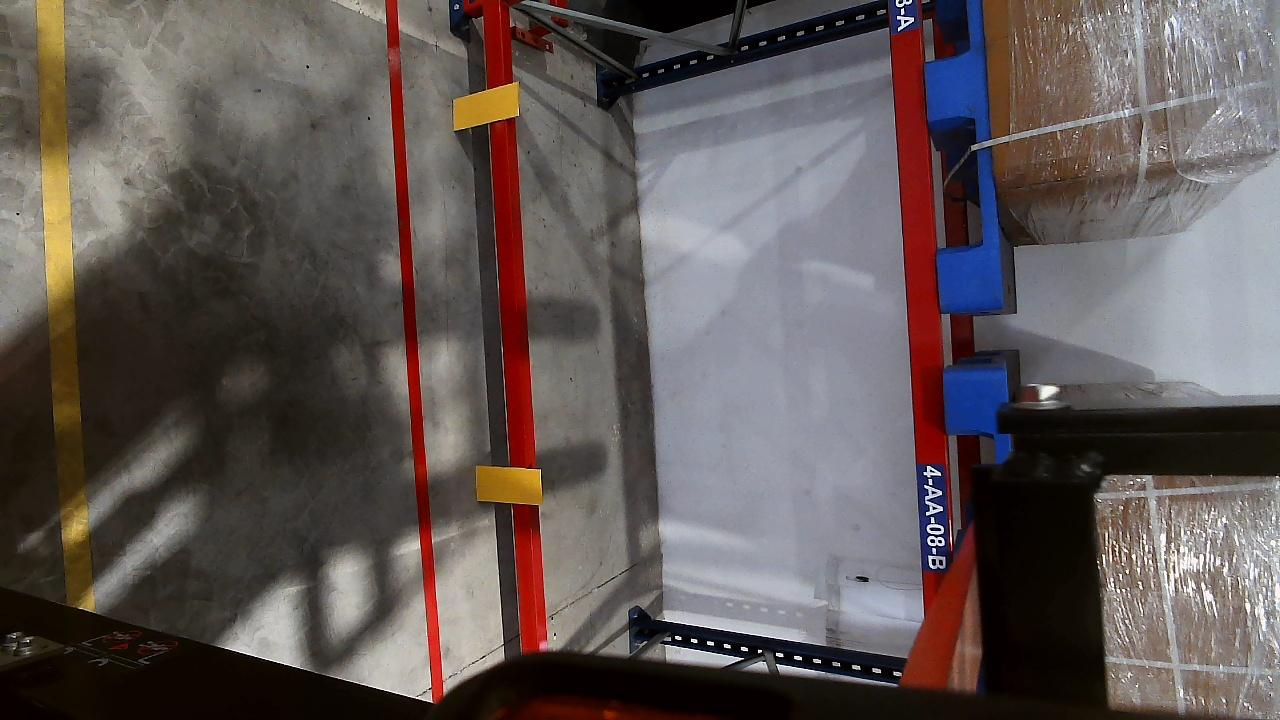h_rack: (480, 5, 548, 655), (884, 0, 954, 598)
orange_strip: (451, 83, 520, 130), (475, 466, 542, 505)
red_line: (378, 0, 449, 696)
small_pallet: (915, 0, 1008, 307)
yellow_line: (32, 11, 95, 610)
